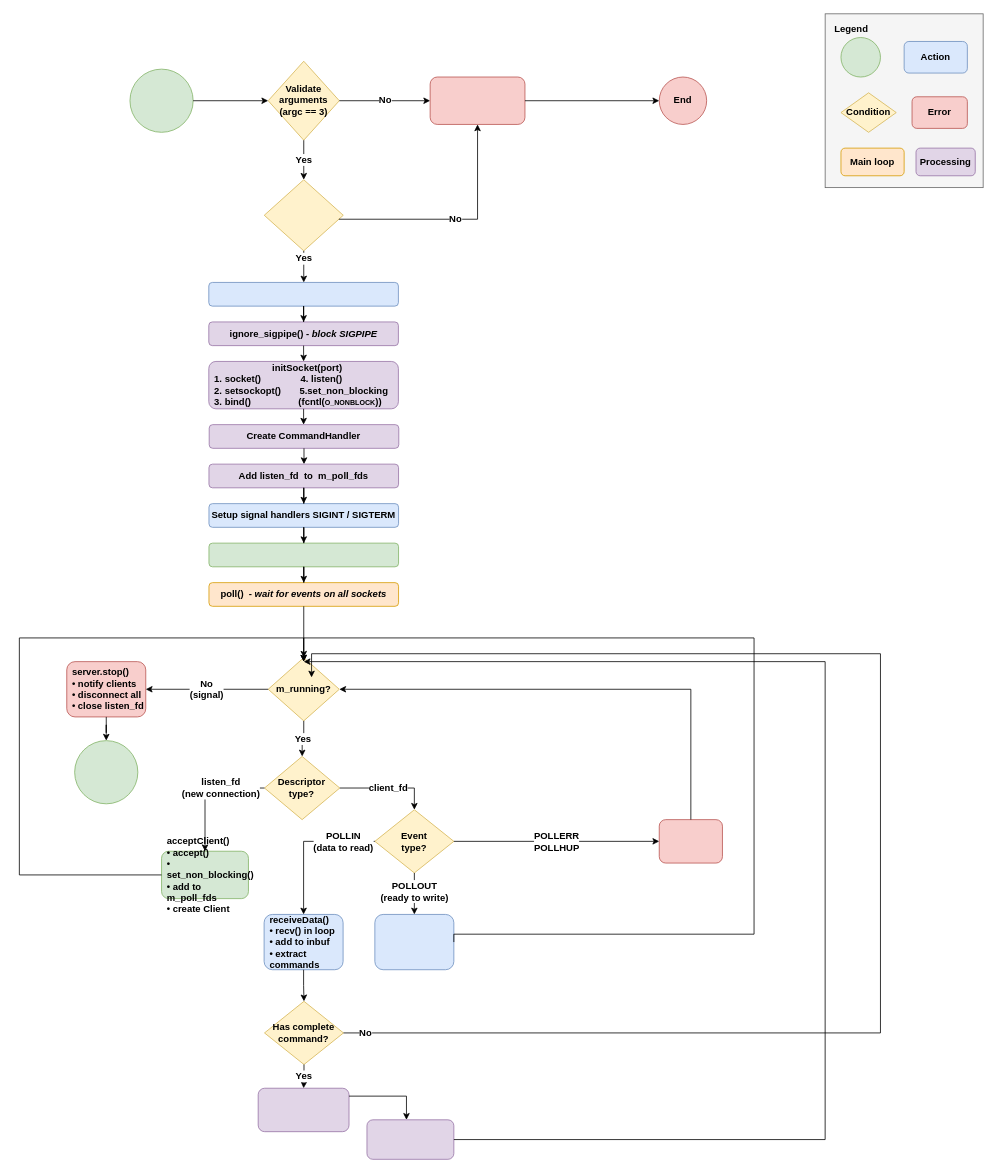
Image size: 997x1173. Some labels were removed from this diagram. The shapes that lost their labels are listed below. From the top down, each one's box as (x1, y1, x2, y2) in pixels, then its label:
(840, 37, 880, 77): Start/End
(129, 68, 193, 132): Start main()
(429, 76, 525, 124): Print error and exit
(263, 179, 343, 251): Validate port (1024-65535)
(208, 282, 398, 306): Create Server object - Server(port, password)
(208, 542, 399, 567): server.run() - main loop
(74, 740, 138, 804): End (exit from main)
(658, 819, 722, 863): disconnectClient() (error/hangup)
(374, 914, 454, 970): sendData() • send() from outbuf • remove sent data • disable POLLOUT
(257, 1087, 349, 1132): handleCommand() • parsing • routing • processing
(366, 1119, 454, 1159): Add response to outbuf enable POLLOUT
